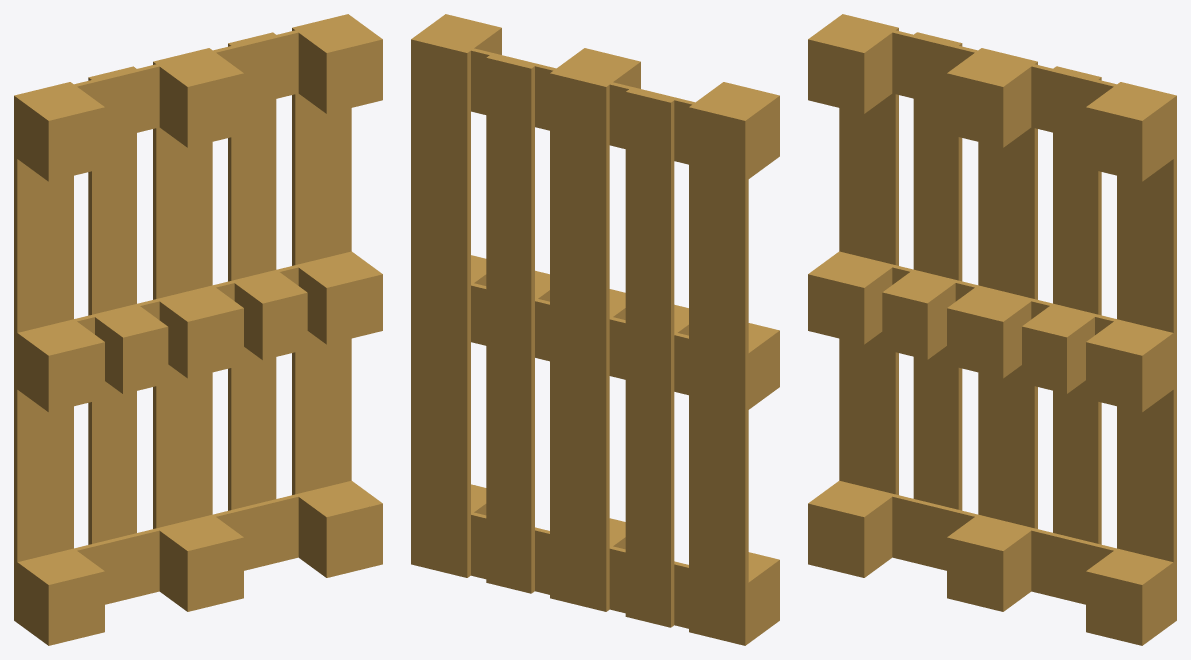
Rendered from palette2.fbx.
The picture shows the model from 3 angles, left to right: view 1: azimuth 30°, elevation 25°; view 2: azimuth 150°, elevation 25°; view 3: azimuth 330°, elevation 25°; orthographic projection.
Parts seen in each view (by area): view 1: Palette; view 2: Palette; view 3: Palette.
Part boxes in pixels (x1,y1,x2,y2): Palette: (14,14,382,645); Palette: (411,14,779,645); Palette: (808,14,1176,645).
Size of the model in its own units: 798 by 1198 by 144.
